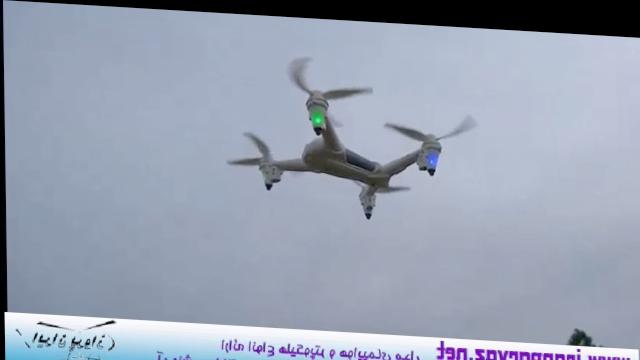drone: (222, 44, 482, 221)
